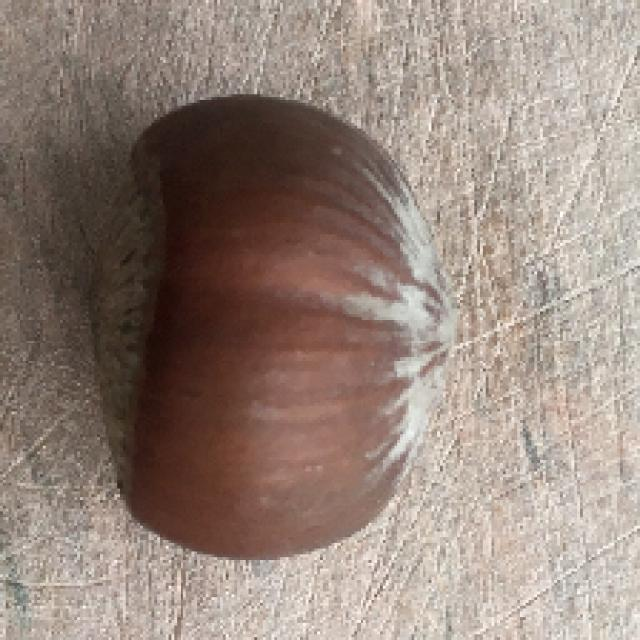qualityHazelnut: (81, 80, 444, 568)
